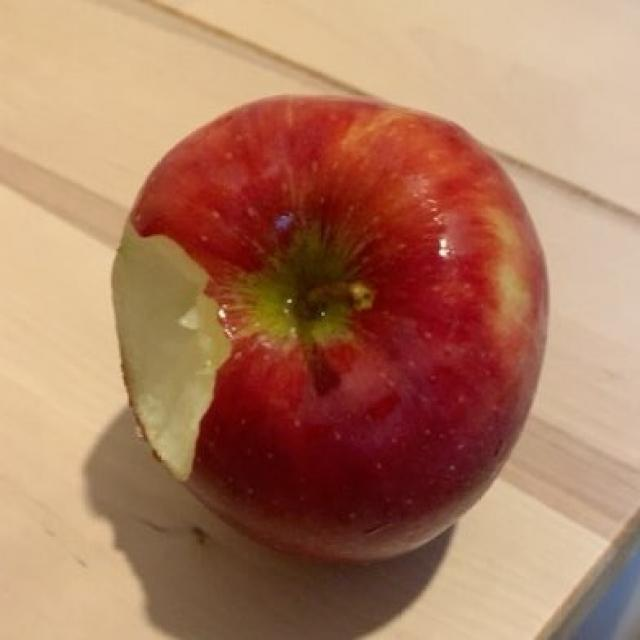apple: (123, 114, 546, 556)
